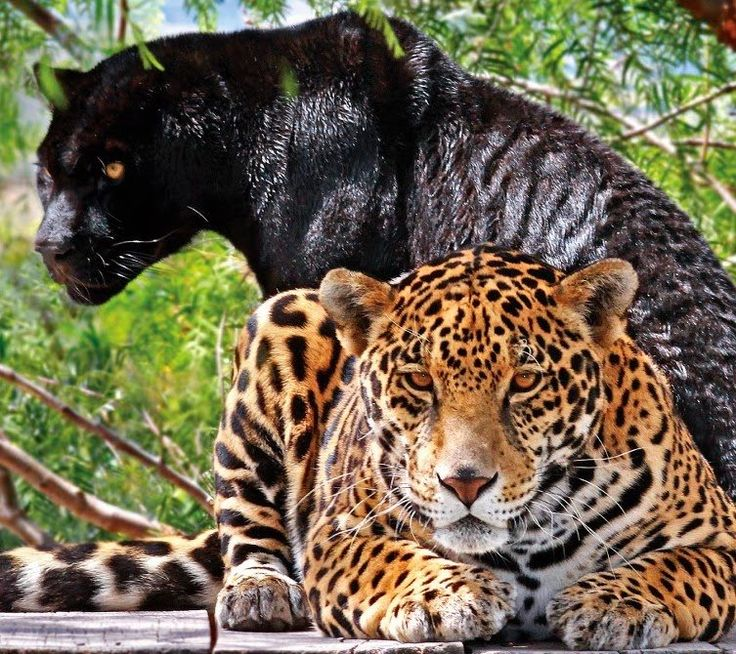Cheetah: (1, 244, 735, 635)
panther: (33, 10, 735, 505)
